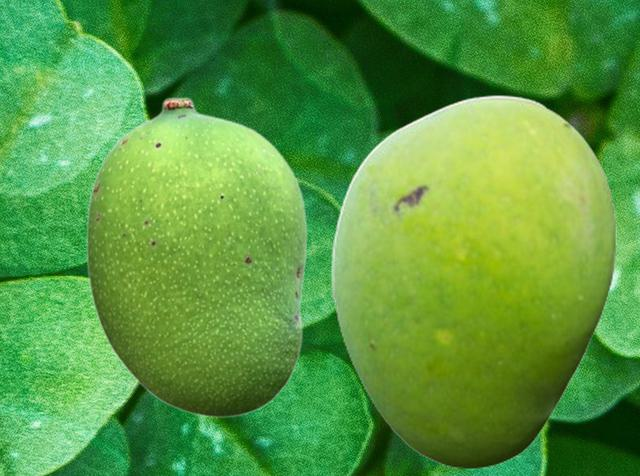green_mango: (330, 94, 615, 468), (85, 96, 306, 417)
